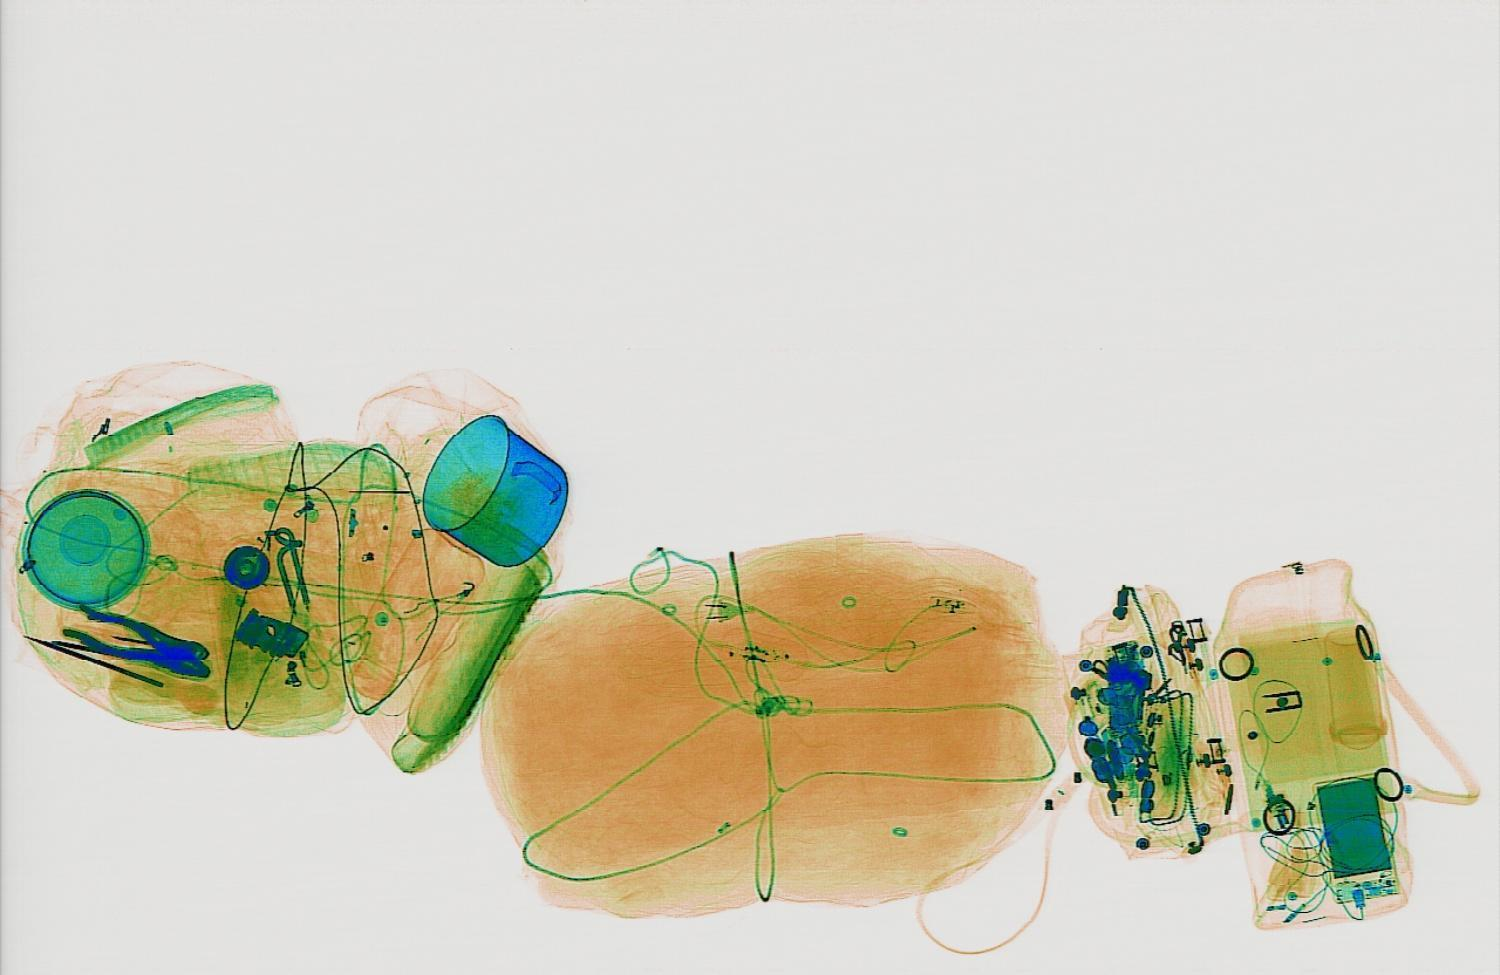Pliers: (50, 599, 235, 689)
